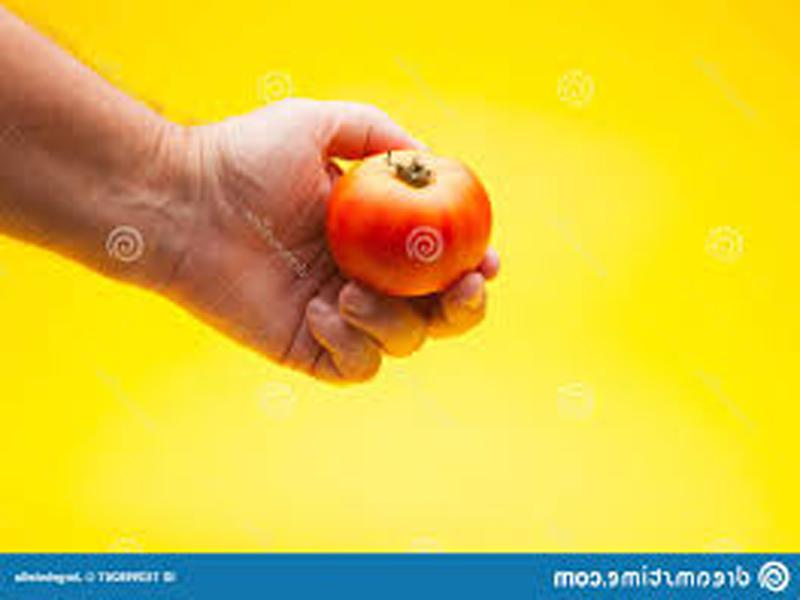Tomato: (326, 151, 490, 295)
